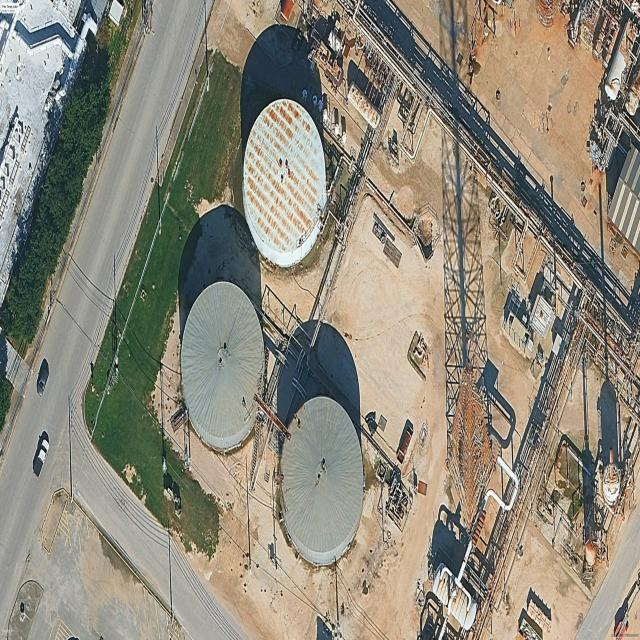Oil Rafinery: (278, 396, 363, 565), (243, 99, 327, 267), (181, 281, 264, 450)
